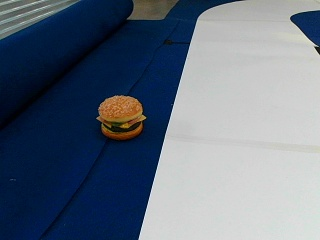burger: (96, 93, 145, 139)
